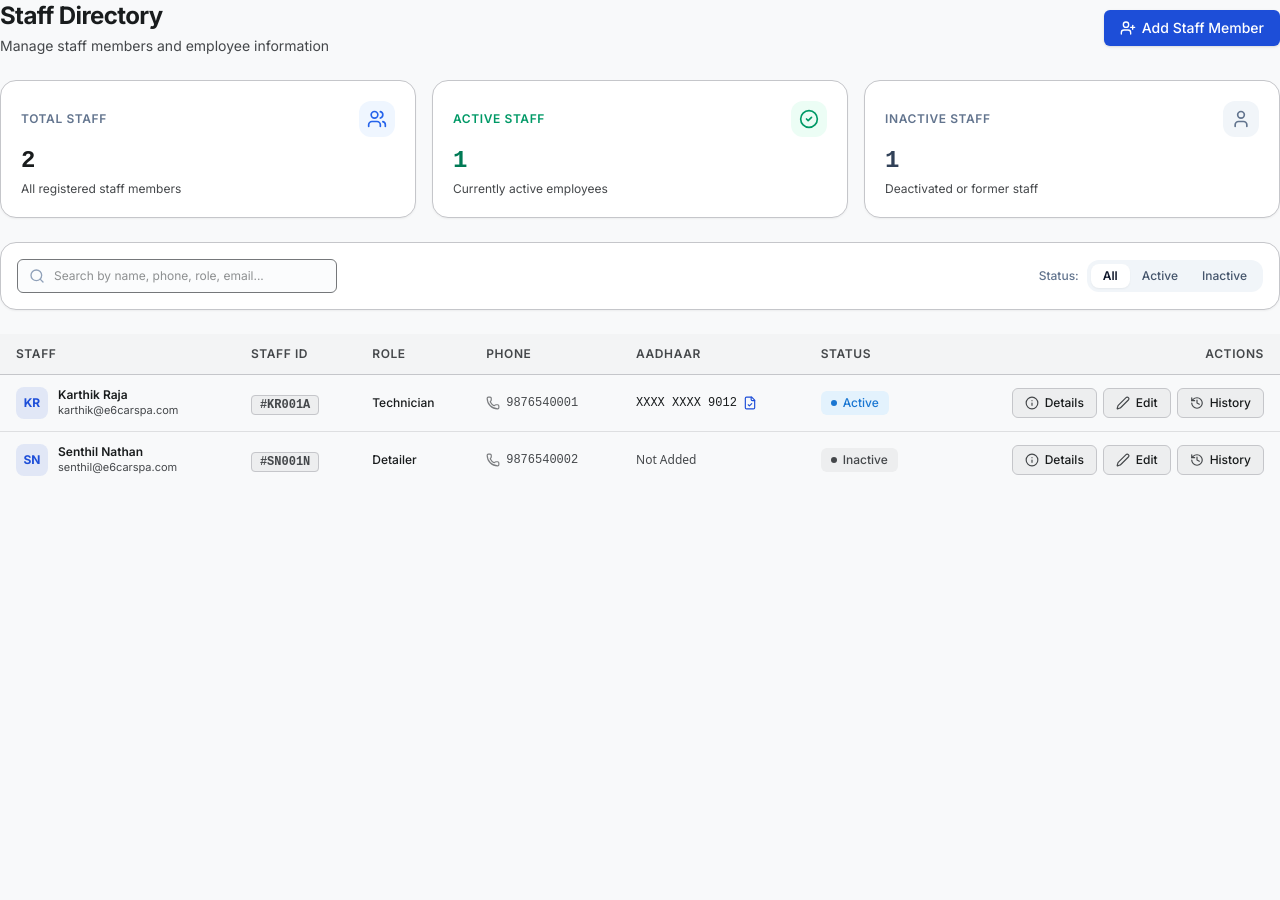
it: StaffDirectoryPage Component (/staff) › opens staff advance history modal when history action is clicked
The image size is (1280, 900).
Expected: the text "Karthik Raja" is shown, [58,387,128,402]
# Click History on the first staff row
What coordinates should you click on to do the following:
click the button "History" in the row of "Karthik Raja"
I would click on:
 (1220, 403)
Its box is [1177,388,1264,418].
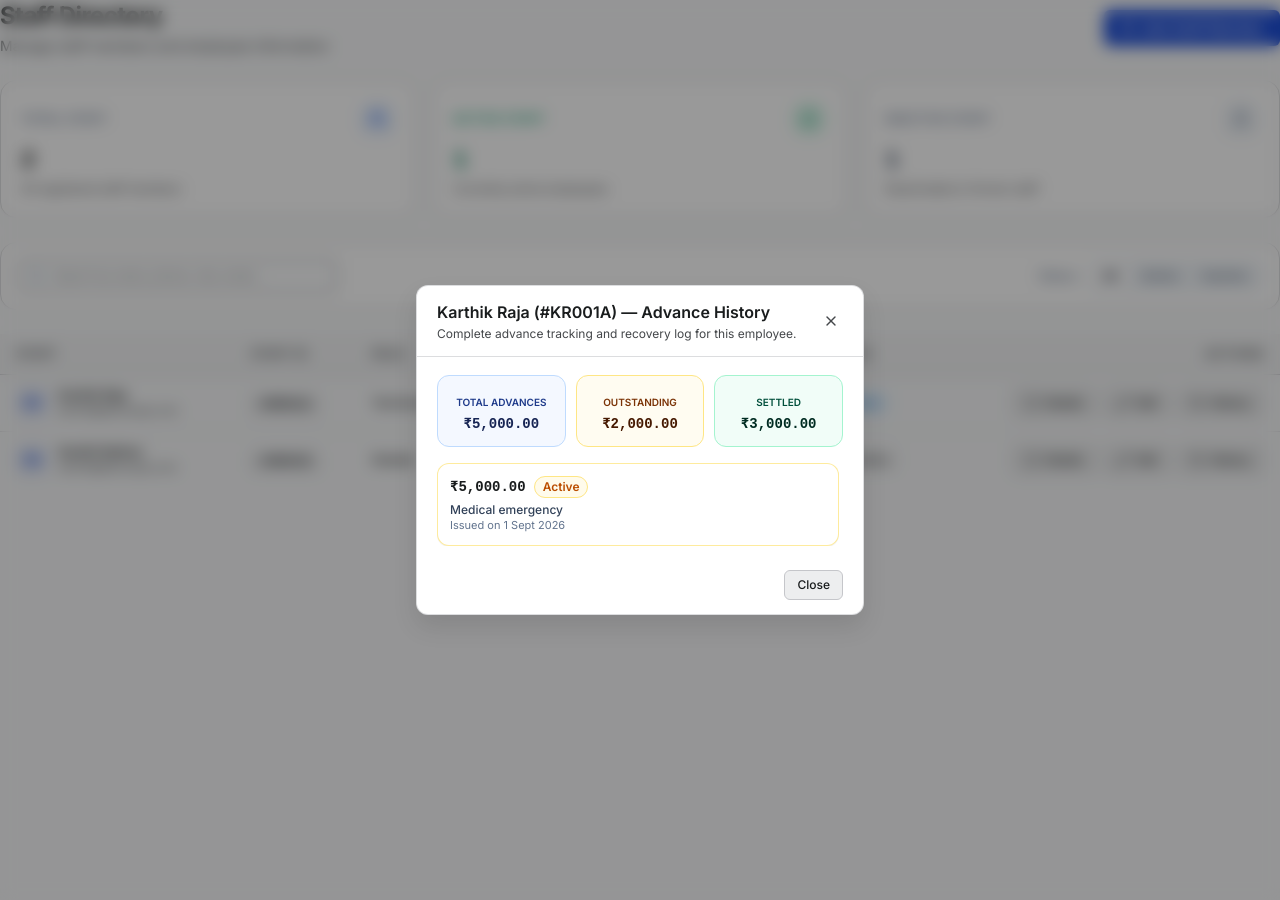
Result: the heading "Karthik Raja (#KR001A) — Advance History" is shown at [437,300,796,324]
Result: the text "Medical emergency" is shown at [450,502,563,517]
